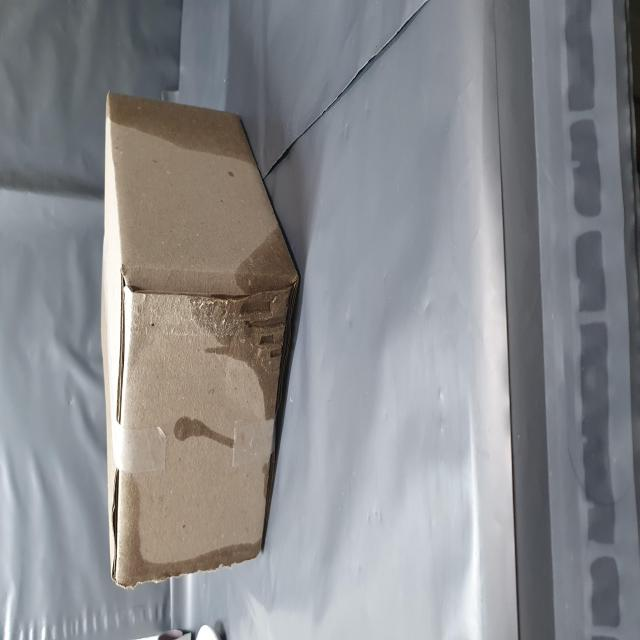wet: (126, 377, 240, 542), (32, 202, 94, 489), (272, 193, 312, 488)
